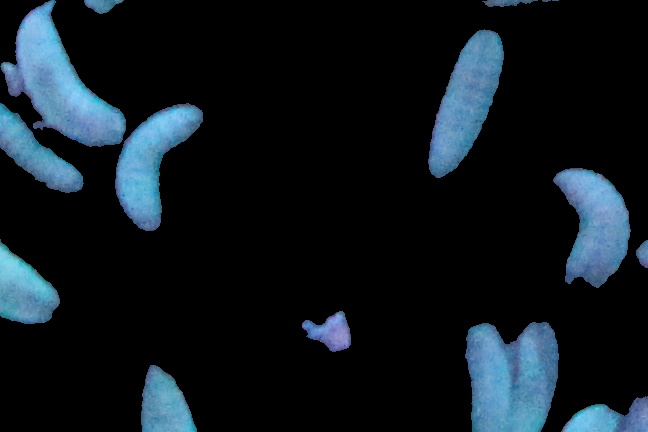larvae: (12, 5, 126, 152), (430, 25, 503, 185), (548, 165, 639, 289), (116, 105, 203, 229), (1, 99, 86, 192), (507, 318, 562, 432), (461, 319, 513, 432), (1, 234, 64, 323), (136, 359, 198, 432)
